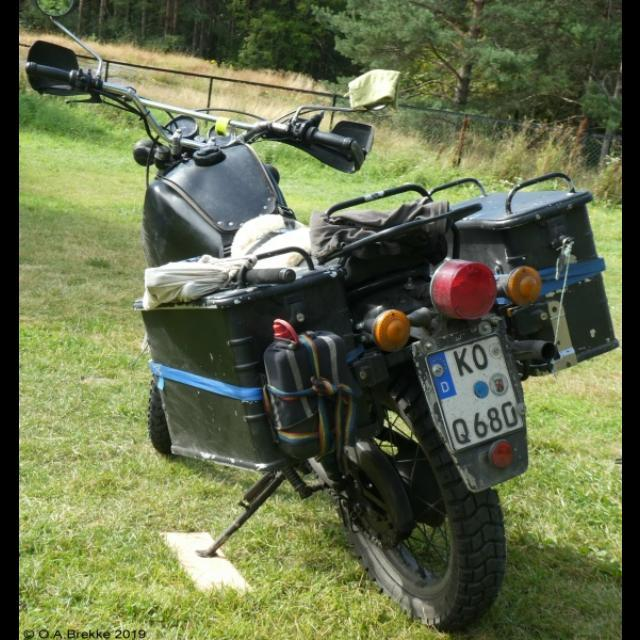license-plates: (426, 335, 525, 453)
